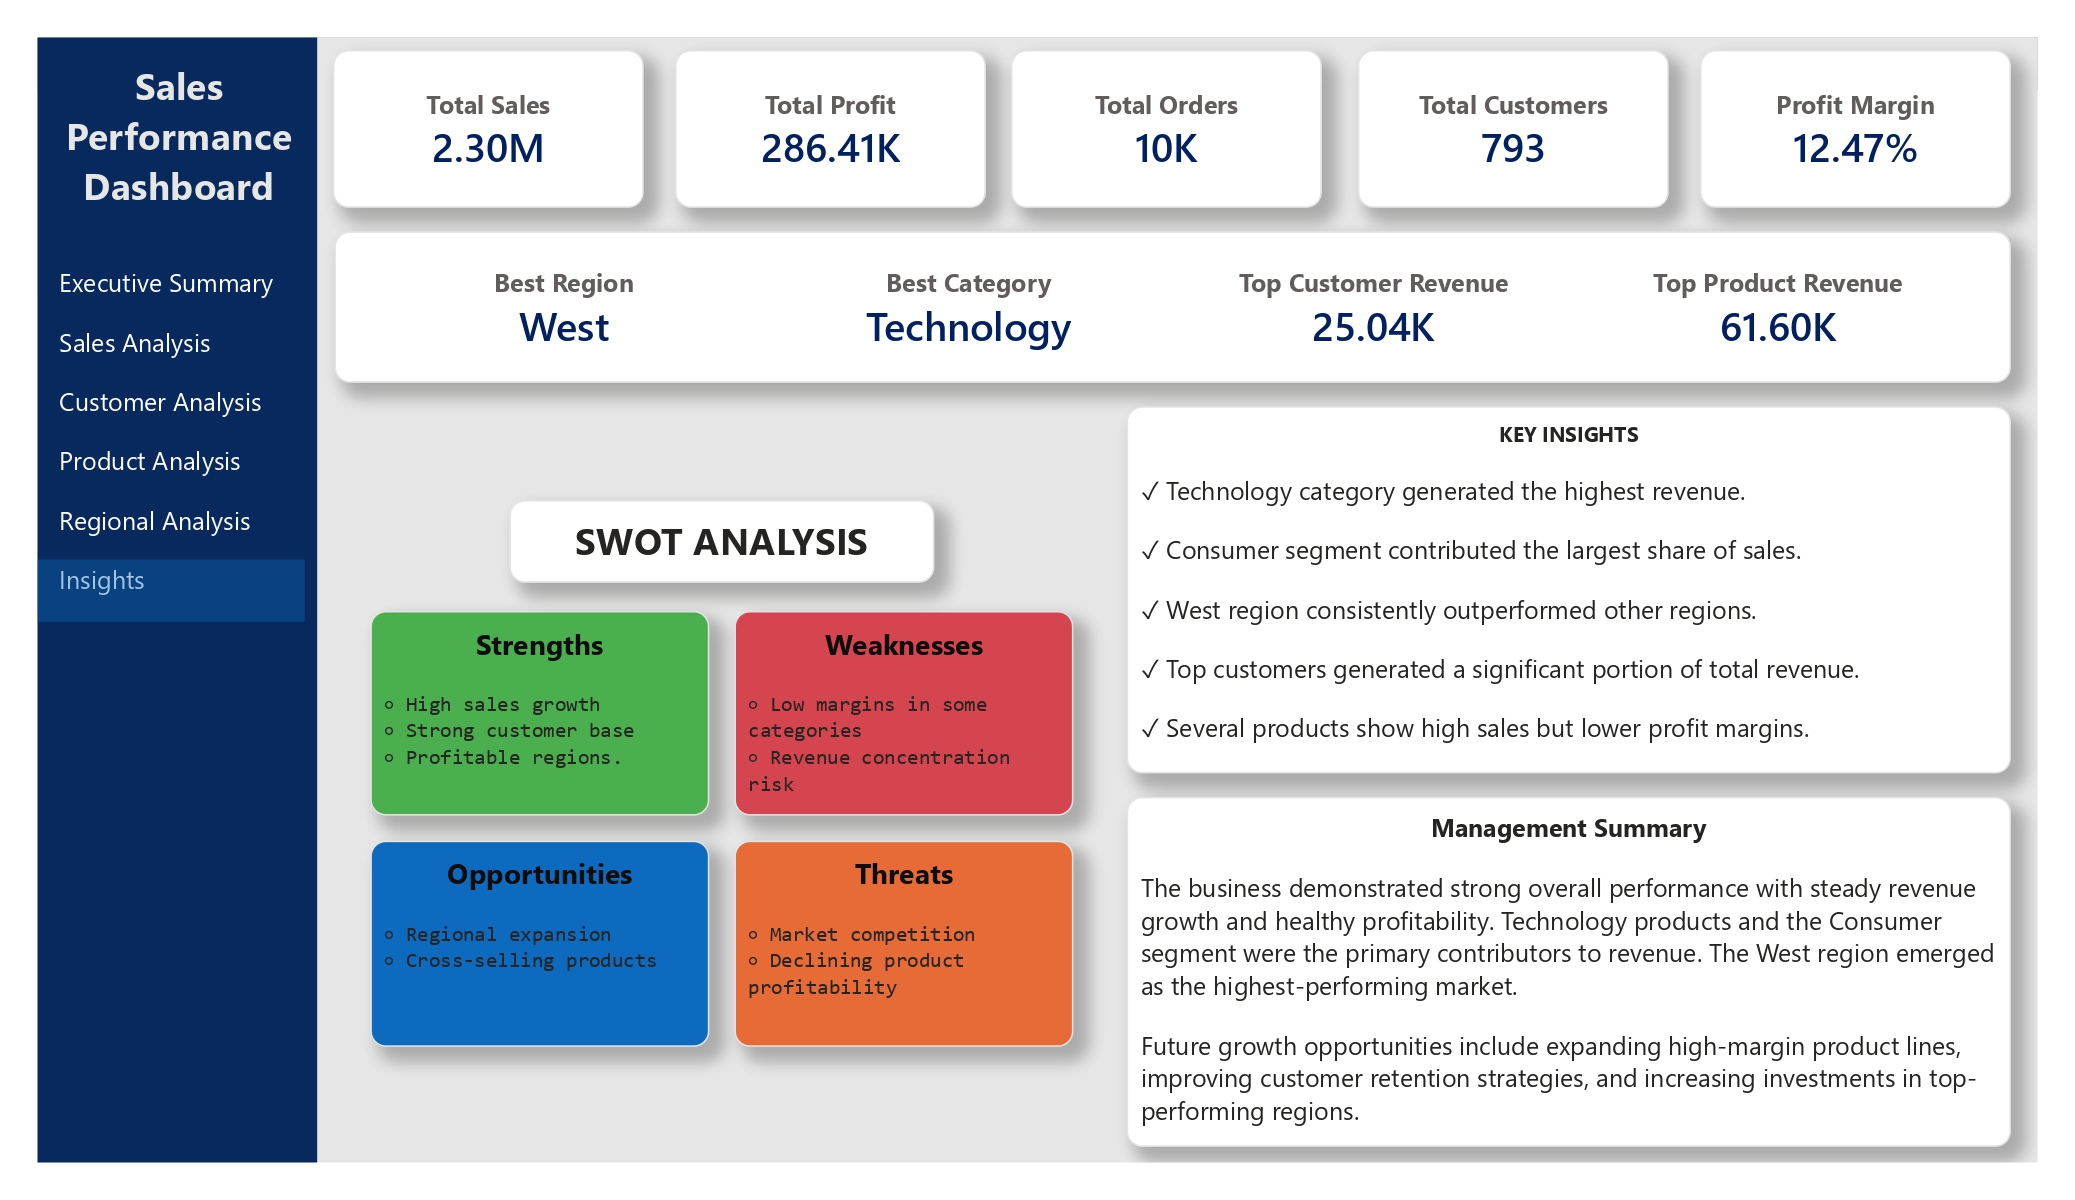

The dashboard page shown, as its layout file describes it:
{"tool":"powerbi","page":{"name":"Page 6","canvas":[1280,720],"ordinal":5},"visuals":[{"type":"cardVisual","title":"Total Sales","fields":{"Data":["Store Data.Total Sales"]},"box":[189.4,8.4,199.1,100.1],"z":0},{"type":"group","id":"g1","title":"Group 1","box":[212.9,367.1,450,278.6],"z":0,"group":"g2"},{"type":"textbox","box":[212.9,367.1,217.1,131.4],"z":0,"group":"g1"},{"type":"cardVisual","fields":{"Data":["Store Data.Total Profit"]},"box":[407.8,8.4,199.1,100.1],"z":1000},{"type":"textbox","box":[301.5,295.7,272.9,52.9],"z":1000,"group":"g2"},{"type":"textbox","box":[445.8,367.1,217.1,131.4],"z":1000,"group":"g1"},{"type":"cardVisual","fields":{"Data":["Store Data.Total Orders"]},"box":[622.5,8.4,199.1,100.1],"z":2000},{"type":"textbox","box":[212.9,514.2,217.1,131.4],"z":2000,"group":"g1"},{"type":"cardVisual","fields":{"Data":["Store Data.Total Customers"]},"box":[844.5,8.4,199.1,100.1],"z":3000},{"type":"textbox","box":[445.8,514.2,217.1,131.4],"z":3000,"group":"g1"},{"type":"shape","box":[0,0,178.8,720],"z":4000},{"type":"textbox","box":[8.8,141.2,162.5,237.5],"z":5000},{"type":"cardVisual","fields":{"Data":["Store Data.Profit Margin"]},"box":[1064.1,8.4,199.1,100.1],"z":6000},{"type":"shape","box":[0,334.3,171.4,40],"z":7000},{"type":"cardVisual","fields":{"Data":["Store Data.Best Region","Store Data.Best Category","Store Data.Top Customer Revenue","Store Data.Top Product Revenue"]},"box":[190,124.3,1072.9,97.1],"z":8000},{"type":"textbox","box":[697.1,235.7,565.7,235.7],"z":9000},{"type":"textbox","box":[697.1,485.7,565.7,224.3],"z":10000},{"type":"group","id":"g2","title":"Group 2","box":[212.9,295.7,450,350],"z":11000},{"type":"textbox","box":[7.1,8.6,167.1,110],"z":12000},{"type":"shape","box":[0,294.4,171.3,39.8],"z":12001},{"type":"shape","box":[0,217.2,171.3,39.8],"z":12002},{"type":"shape","box":[0,177.3,171.3,39.8],"z":12003},{"type":"shape","box":[0,137.5,171.3,39.8],"z":12004},{"type":"shape","box":[0,254.6,171.3,39.8],"z":12005}]}

Visuals, with their boxes on the page's 1280x720 design canvas (x1, y1, x2, y2). These are canvas units, not pixel positions in the 2075x1200 screenshot, which may show the page scaled, cropped or inside an application window:
"Total Sales" cardVisual: (189,8,388,108)
"Group 1" group: (213,367,663,646)
textbox: (213,367,430,498)
cardVisual - Store Data.Total Profit: (408,8,607,108)
textbox: (302,296,574,349)
textbox: (446,367,663,498)
cardVisual - Store Data.Total Orders: (622,8,822,108)
textbox: (213,514,430,646)
cardVisual - Store Data.Total Customers: (844,8,1044,108)
textbox: (446,514,663,646)
shape: (0,0,179,720)
textbox: (9,141,171,379)
cardVisual - Store Data.Profit Margin: (1064,8,1263,108)
shape: (0,334,171,374)
cardVisual - Store Data.Best Region x Store Data.Best Category: (190,124,1263,221)
textbox: (697,236,1263,471)
textbox: (697,486,1263,710)
"Group 2" group: (213,296,663,646)
textbox: (7,9,174,119)
shape: (0,294,171,334)
shape: (0,217,171,257)
shape: (0,177,171,217)
shape: (0,138,171,177)
shape: (0,255,171,294)
